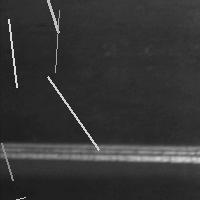scratches: (1, 138, 199, 166), (43, 72, 104, 155), (3, 14, 21, 92), (33, 0, 63, 37), (50, 5, 64, 77), (0, 138, 18, 185), (0, 192, 30, 200)
